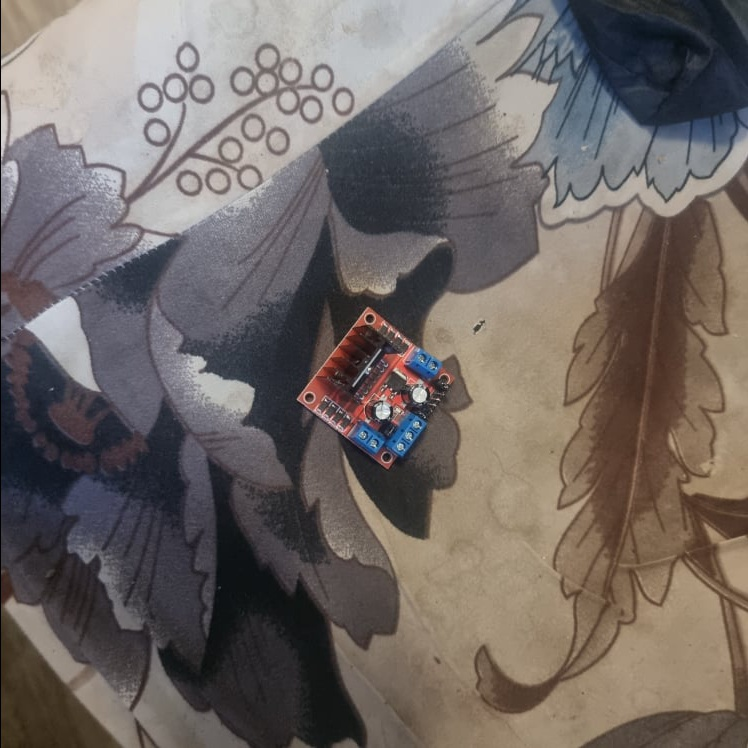MOTOR: (295, 305, 451, 469)
